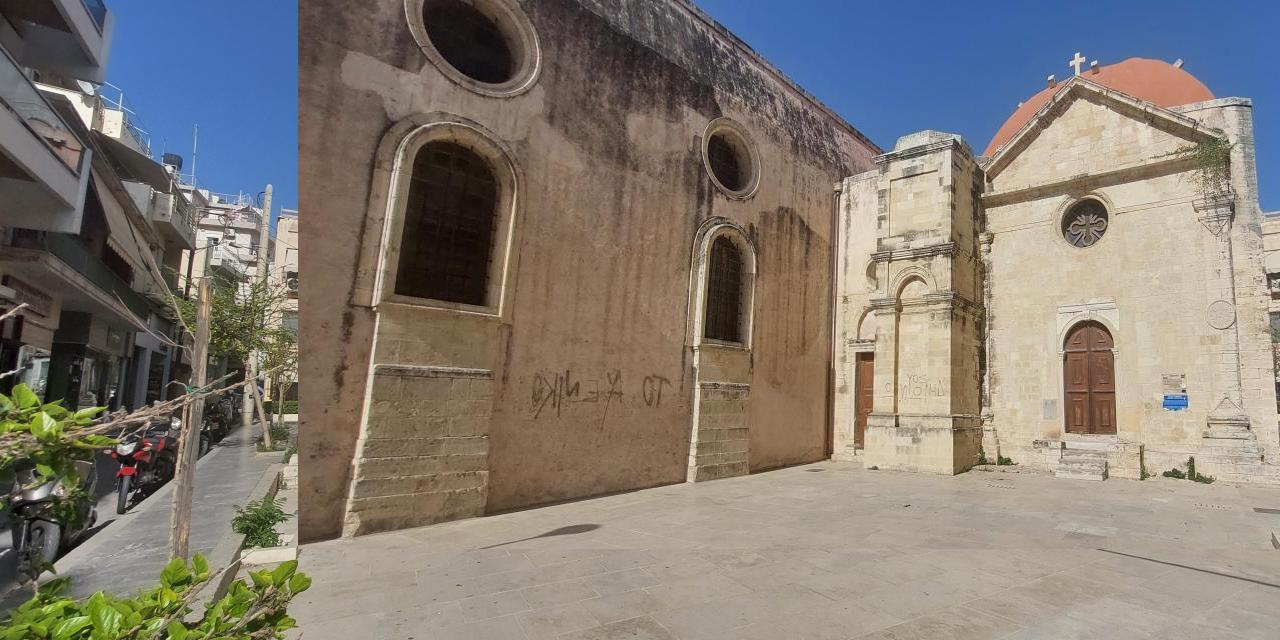Agia Aikaterini: (299, 1, 1280, 550)
